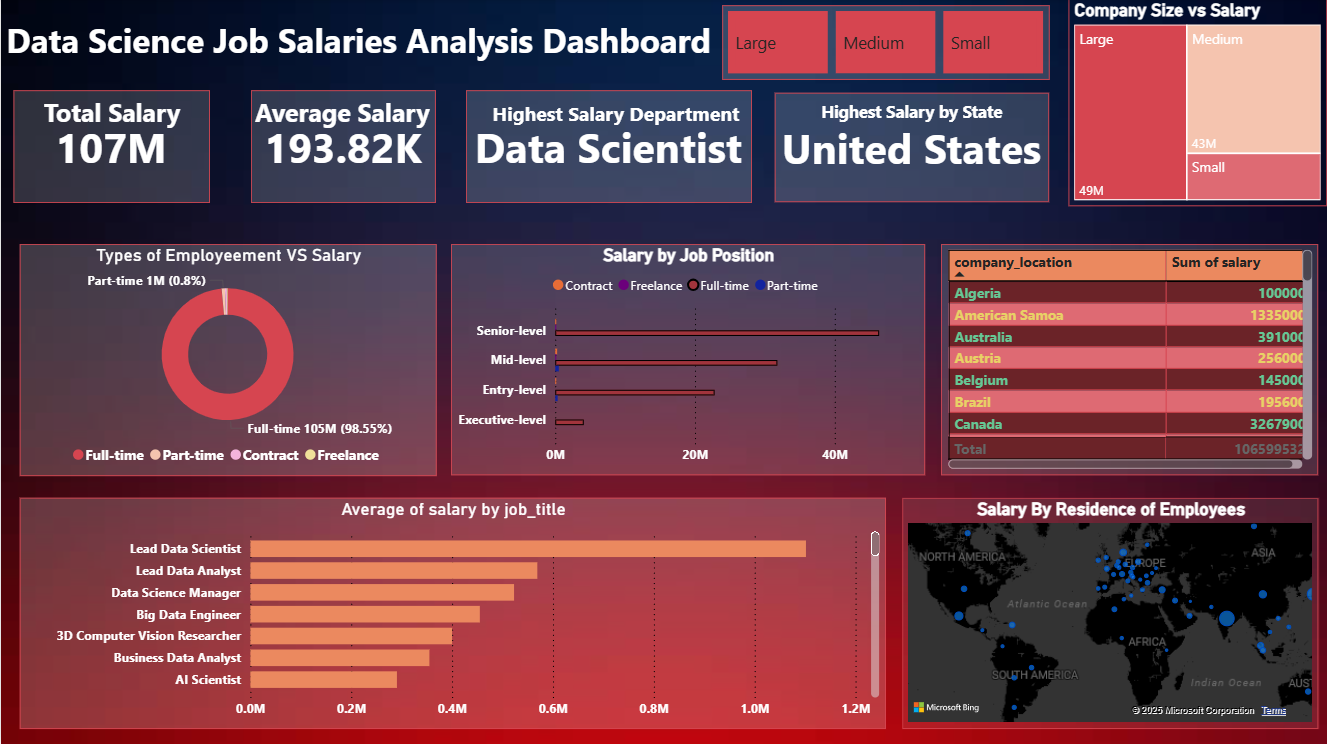

Layout of this report page (visuals, bound fields, positions):
{"tool":"powerbi","page":{"name":"Page 1","canvas":[1280,720],"ordinal":0},"visuals":[{"type":"card","fields":{"Values":["Sum(Cleaned_Data Science Job salaries.salary)"]},"box":[12.3,87.8,189.4,108.4],"z":0},{"type":"card","fields":{"Values":["Avg(Cleaned_Data Science Job salaries.salary)"]},"box":[241.5,87.8,178.4,108.4],"z":1000},{"type":"card","fields":{"Values":["Min(Cleaned_Data Science Job salaries.job_title)"]},"box":[448.7,87.8,275.8,108.4],"z":2000},{"type":"card","fields":{"Values":["Min(Cleaned_Data Science Job salaries.company_location)"]},"box":[746.5,90.6,264.8,105.7],"z":3000},{"type":"textbox","box":[35.7,87.8,166,50.8],"z":4000},{"type":"textbox","box":[240.1,87.8,179.8,49.4],"z":5000},{"type":"textbox","box":[469.3,93.3,255.2,49.4],"z":6000},{"type":"textbox","box":[786.3,93.3,188,43.9],"z":7000},{"type":"textbox","box":[0,13.7,695.7,57.6],"z":8000},{"type":"treemap","title":"Company Size vs Salary","fields":{"Group":["Cleaned_Data Science Job salaries.company_size"],"Values":["Sum(Cleaned_Data Science Job salaries.salary)"]},"box":[1030.5,0,249.7,200.3],"z":9000},{"type":"donutChart","title":"Types of Employeement VS Salary","fields":{"Category":["Cleaned_Data Science Job salaries.employment_type"],"Y":["Sum(Cleaned_Data Science Job salaries.salary)"]},"box":[17.8,236,402.1,223.7],"z":10000},{"type":"clusteredBarChart","title":"Salary by Job Position","fields":{"Category":["Cleaned_Data Science Job salaries.experience_level"],"Y":["Sum(Cleaned_Data Science Job salaries.salary)"],"Series":["Cleaned_Data Science Job salaries.employment_type"]},"box":[434.3,236.5,457.2,223.2],"z":10001},{"type":"tableEx","fields":{"Values":["Cleaned_Data Science Job salaries.company_location","Sum(Cleaned_Data Science Job salaries.salary)"]},"box":[907.2,236.5,364.3,223.2],"z":10003},{"type":"advancedSlicerVisual","fields":{"Values":["Cleaned_Data Science Job salaries.company_size"]},"box":[696.1,6,316.1,72.4],"z":10004},{"type":"map","title":"Salary By Residence of Employees","fields":{"Category":["Cleaned_Data Science Job salaries.employee_residence"],"Size":["Avg(Cleaned_Data Science Job salaries.salary)"]},"box":[869.8,481.4,401.7,223.2],"z":10005},{"type":"barChart","fields":{"Category":["Cleaned_Data Science Job salaries.job_title"],"Y":["Avg(Cleaned_Data Science Job salaries.salary)"]},"box":[18.1,481.4,836.1,223.2],"z":10006}]}

Visuals, with their boxes in screenshot pixels (x1, y1, x2, y2), scaled from the page's 1280x720 canvas onto the 1327x744 screenshot:
card - Sum(Cleaned_Data Science Job salaries.salary): x1=13, y1=91, x2=209, y2=203
card - Avg(Cleaned_Data Science Job salaries.salary): x1=250, y1=91, x2=435, y2=203
card - Min(Cleaned_Data Science Job salaries.job_title): x1=465, y1=91, x2=751, y2=203
card - Min(Cleaned_Data Science Job salaries.company_location): x1=774, y1=94, x2=1048, y2=203
textbox: x1=37, y1=91, x2=209, y2=143
textbox: x1=249, y1=91, x2=435, y2=142
textbox: x1=487, y1=96, x2=751, y2=147
textbox: x1=815, y1=96, x2=1010, y2=142
textbox: x1=0, y1=14, x2=721, y2=74
"Company Size vs Salary" treemap: x1=1068, y1=0, x2=1326, y2=207
"Types of Employeement VS Salary" donutChart: x1=18, y1=244, x2=435, y2=475
"Salary by Job Position" clusteredBarChart: x1=450, y1=244, x2=924, y2=475
tableEx - Cleaned_Data Science Job salaries.company_location x Sum(Cleaned_Data Science Job salaries.salary): x1=941, y1=244, x2=1318, y2=475
advancedSlicerVisual - Cleaned_Data Science Job salaries.company_size: x1=722, y1=6, x2=1049, y2=81
"Salary By Residence of Employees" map: x1=902, y1=497, x2=1318, y2=728
barChart - Cleaned_Data Science Job salaries.job_title x Avg(Cleaned_Data Science Job salaries.salary): x1=19, y1=497, x2=886, y2=728
